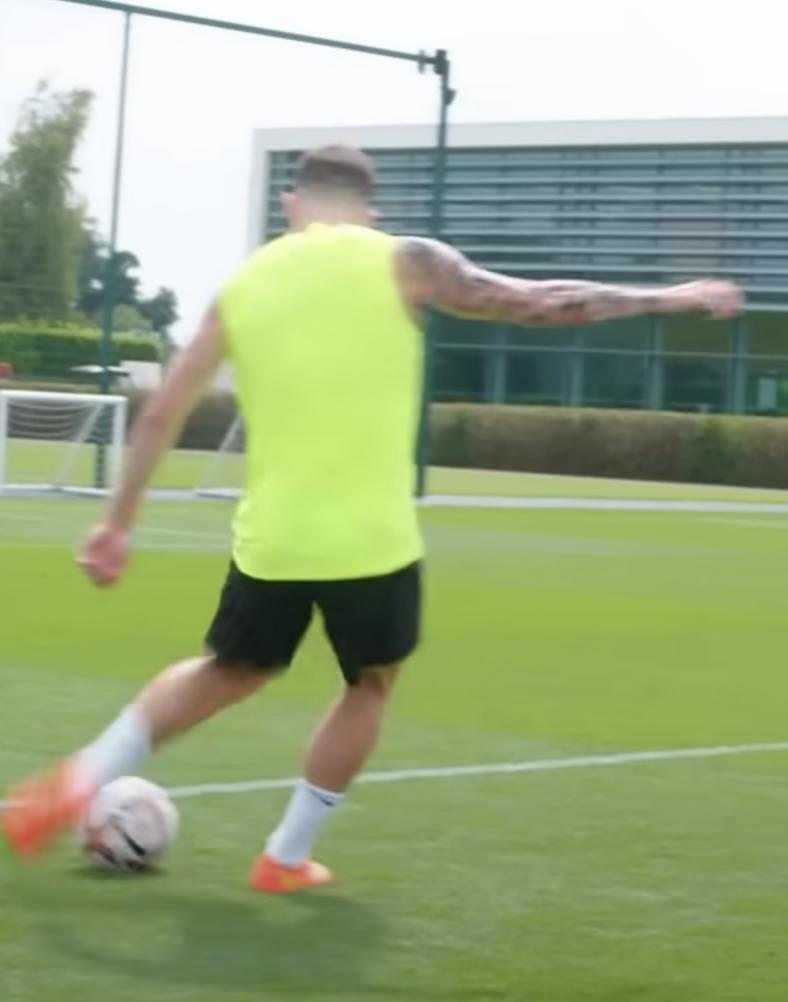ball: (81, 777, 177, 872)
foot: (0, 749, 98, 859), (245, 852, 339, 895)
person: (0, 148, 744, 889)
